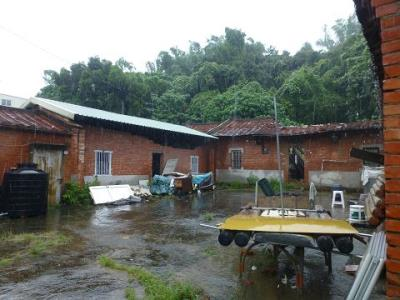bucket: (1, 161, 52, 221)
